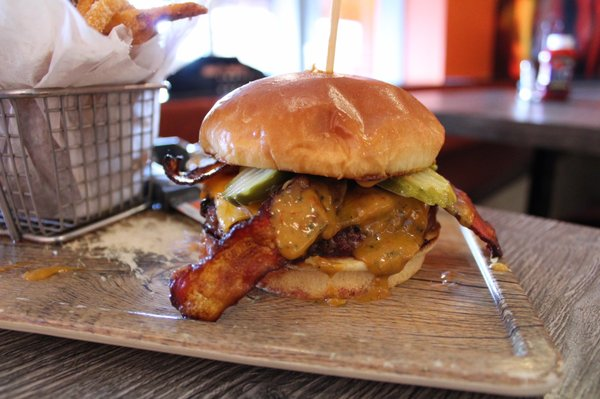soup: (156, 70, 502, 325)
